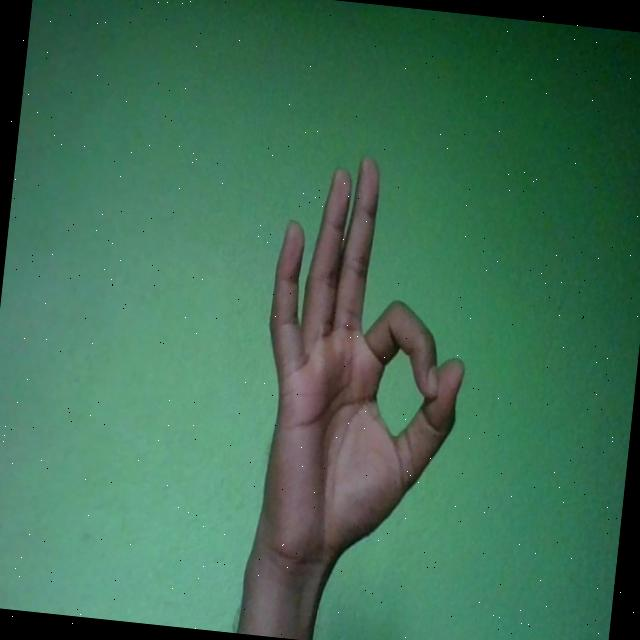Rock On: (243, 147, 484, 587)
